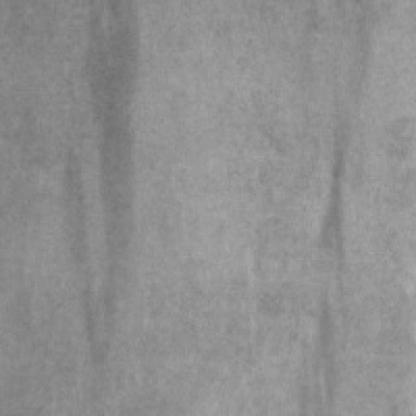inclusion: (79, 6, 139, 368), (308, 141, 351, 298)
